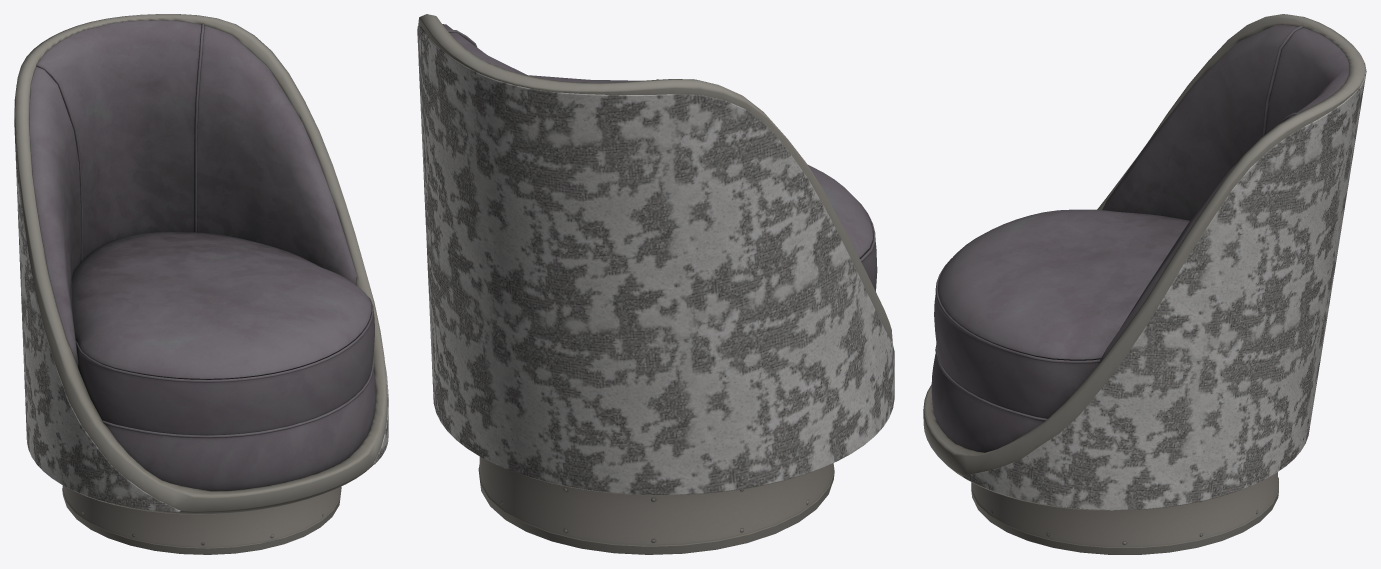
3 renders of one model, left to right at view 1: azimuth 30°, elevation 25°; view 2: azimuth 150°, elevation 25°; view 3: azimuth 270°, elevation 25°, orthographic. The views are drawn at different scales.
Visible parts, largest first — view 1: a_ms-temp4; view 2: a_ms-temp4; view 3: a_ms-temp4.
Boxes of the visible parts, x1,y1,x2,y2 form: a_ms-temp4: [14, 14, 388, 554]; a_ms-temp4: [417, 14, 894, 554]; a_ms-temp4: [923, 14, 1366, 554].
Bounding box in the file's own units: 0.6985 × 0.8382 × 0.7874.
Materials: 1 (1 with a texture image).
